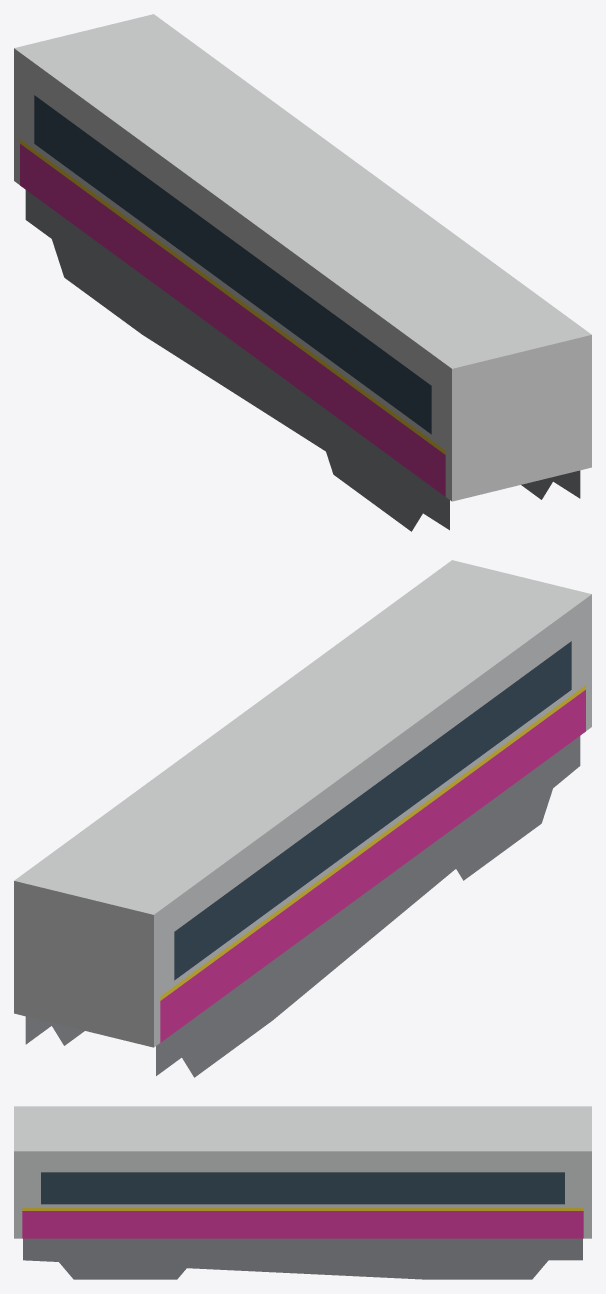
File: middle_4_far.fbx
3 views of the same model, one above another, from view 1: azimuth 30°, elevation 25°; view 2: azimuth 150°, elevation 25°; view 3: azimuth 270°, elevation 25° (orthographic). The views are drawn at different scales.
Parts seen in each view (by area): view 1: 24_middle_4_far; view 2: 24_middle_4_far; view 3: 24_middle_4_far.
Boxes of the visible parts, box(x1,y1,x2,y2) form: 24_middle_4_far: box(14, 14, 591, 531); 24_middle_4_far: box(14, 560, 591, 1077); 24_middle_4_far: box(14, 1106, 591, 1279).
Size of the model in its own units: 2.59 by 3.48 by 14.
